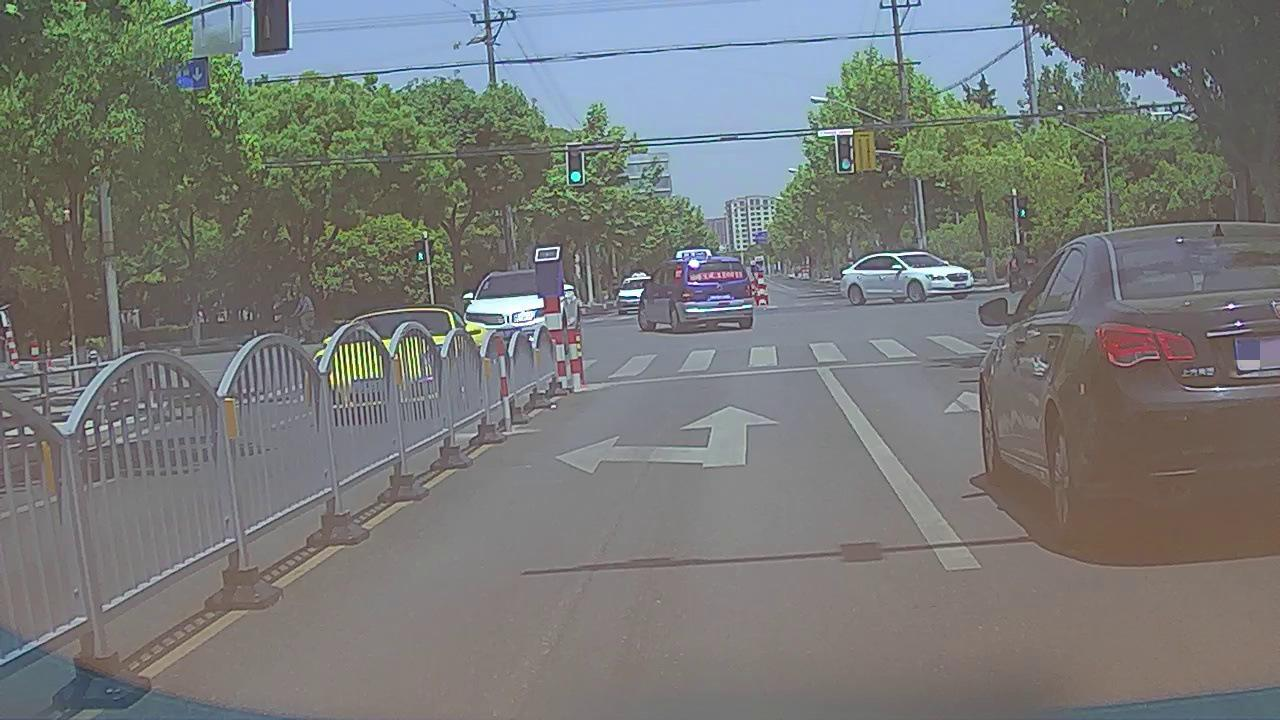traffic_light: (567, 143, 584, 184), (837, 131, 854, 172)
